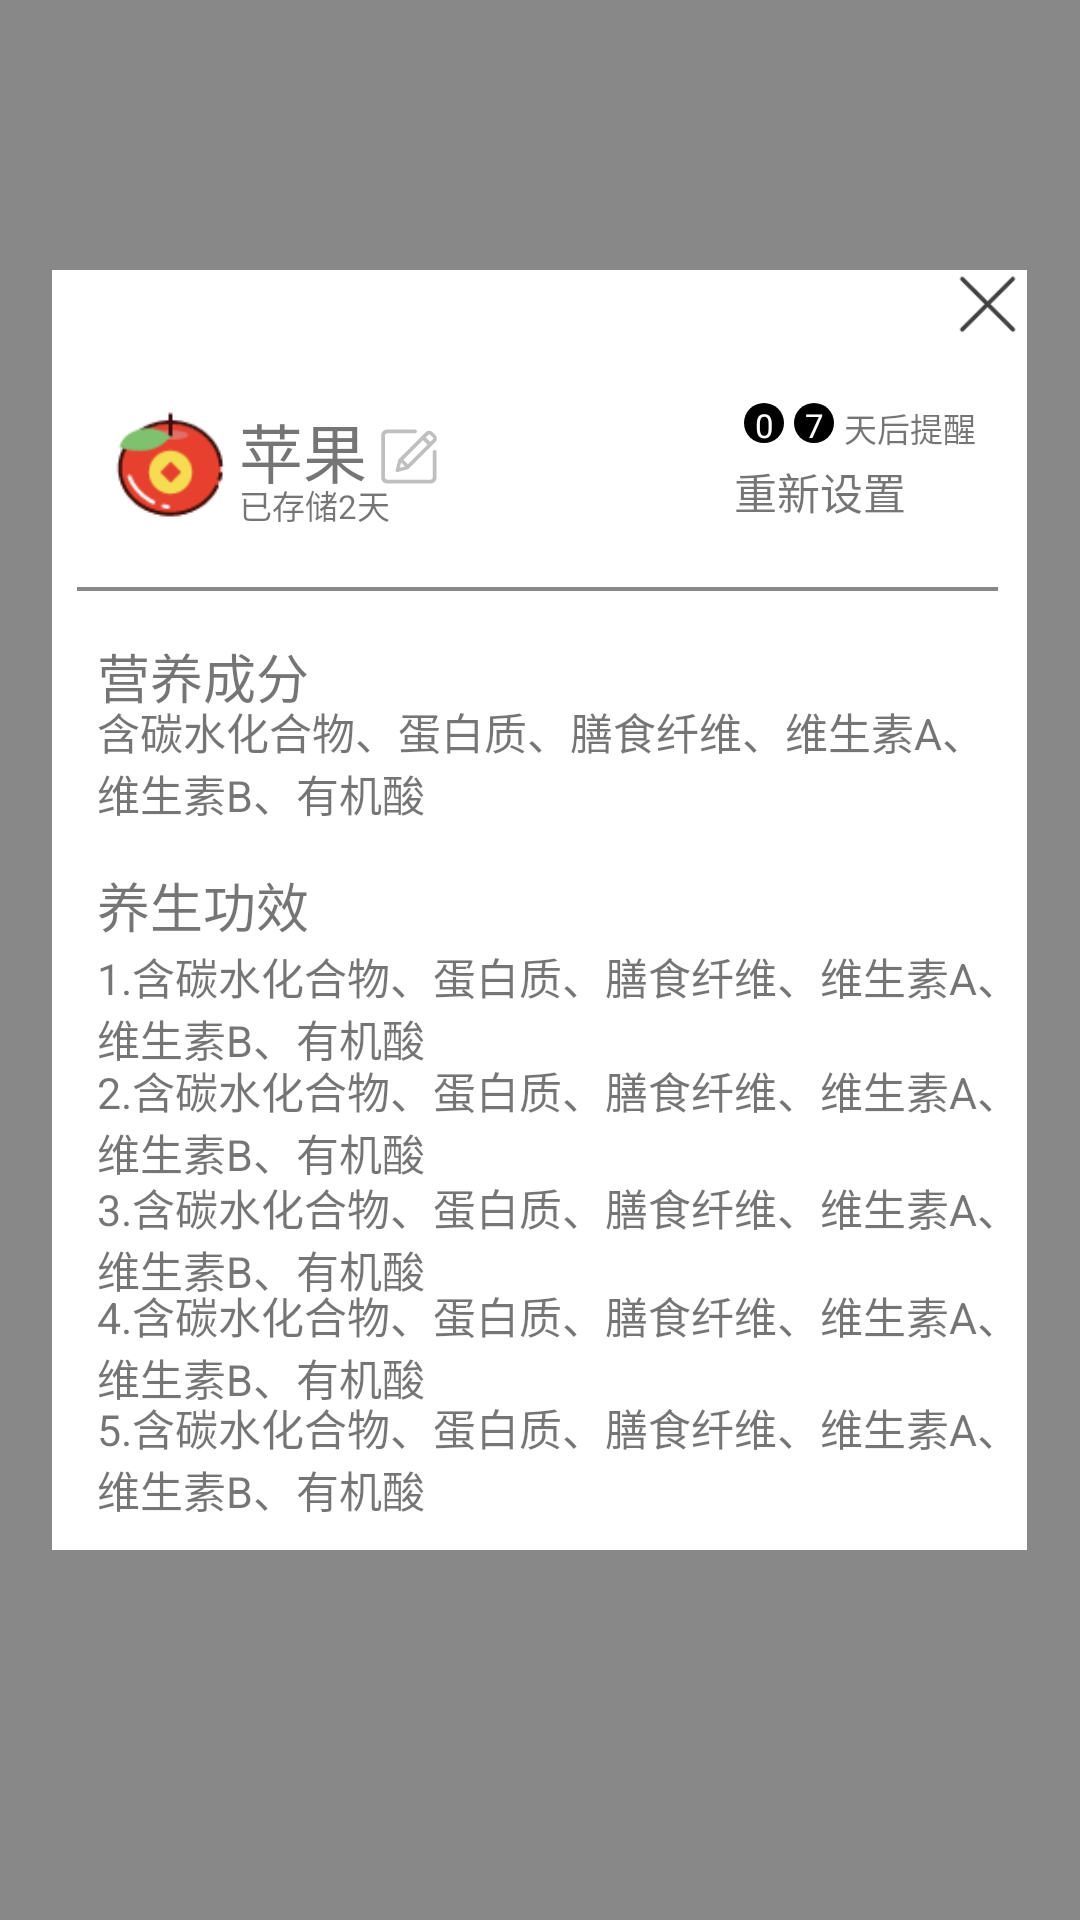

Named icons in this screenshot (1080px x 1920px) and their bounding boxes, box(x1, y1, x2, y2):
close: box(959, 276, 1016, 332)
